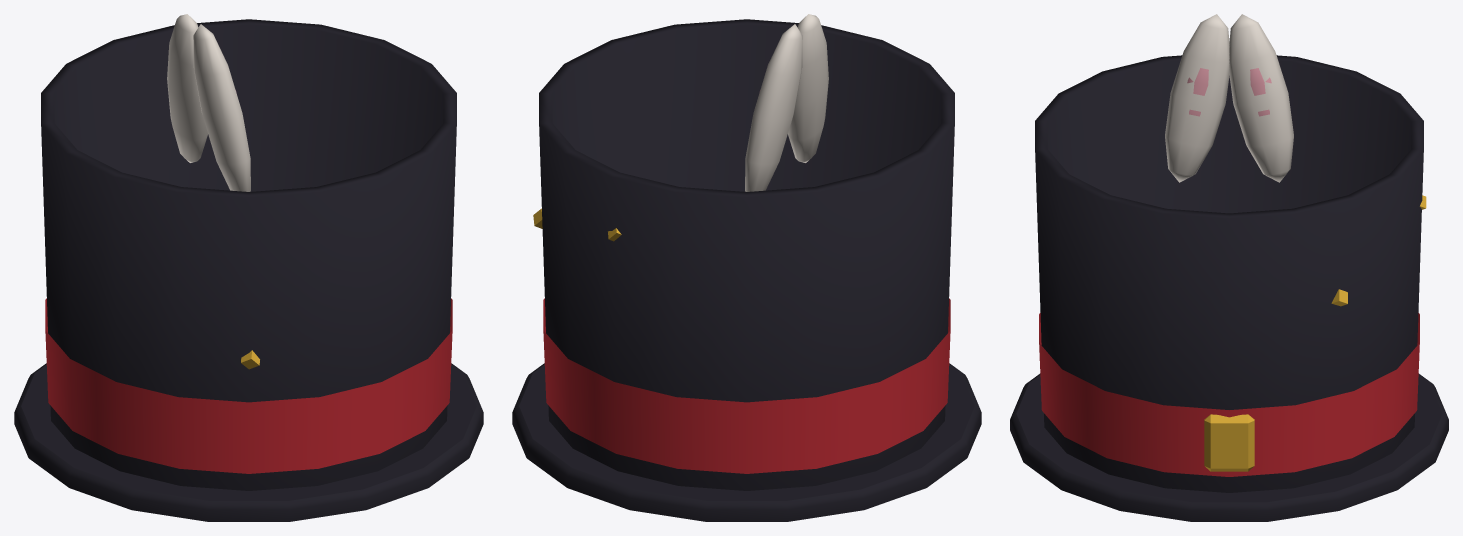
File: circus-hide.glb
3 renders of one model, left to right at view 1: azimuth 30°, elevation 25°; view 2: azimuth 150°, elevation 25°; view 3: azimuth 270°, elevation 25°, orthographic. The views are drawn at different scales.
Visible parts, largest first — view 1: circus-hide; view 2: circus-hide; view 3: circus-hide.
Boxes of the visible parts, x1,y1,x2,y2 form: circus-hide: [14, 14, 483, 521]; circus-hide: [512, 14, 981, 521]; circus-hide: [1010, 14, 1448, 521].
Bounding box in the file's own units: 1.38 × 1.38 × 1.4.
